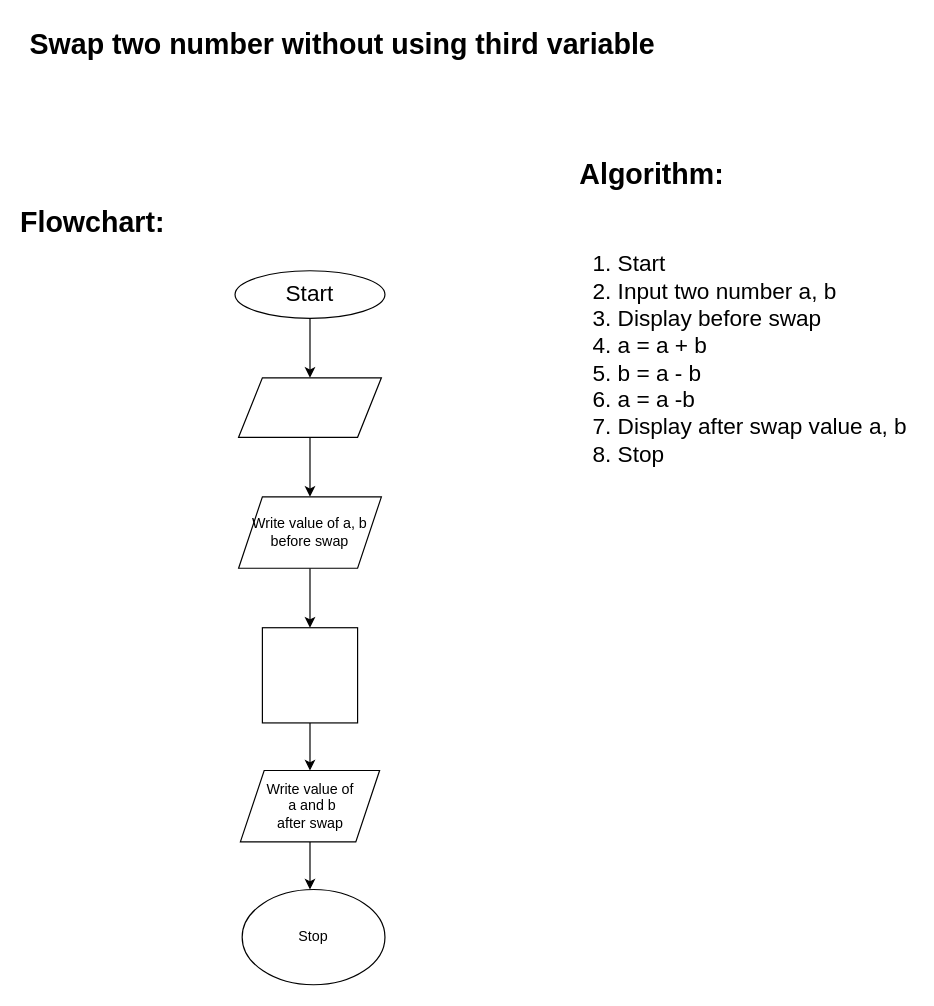
Image size: 934x1006. Some labels were removed from this diagram. The shapes that lost their labels are listed below. From the top down, each one's box as (x1, y1, x2, y2) in pixels, then its label:
(237, 377, 381, 437): Input a, b
(261, 627, 358, 723): a = a +b b = a - b a = a - b
